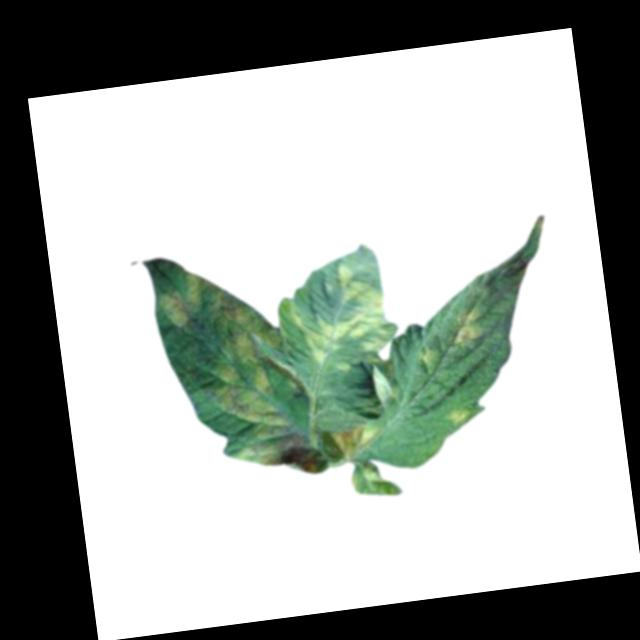Leaf_Mold: (160, 260, 321, 490), (296, 263, 394, 375), (441, 304, 487, 346), (331, 421, 379, 460), (443, 403, 469, 424)
